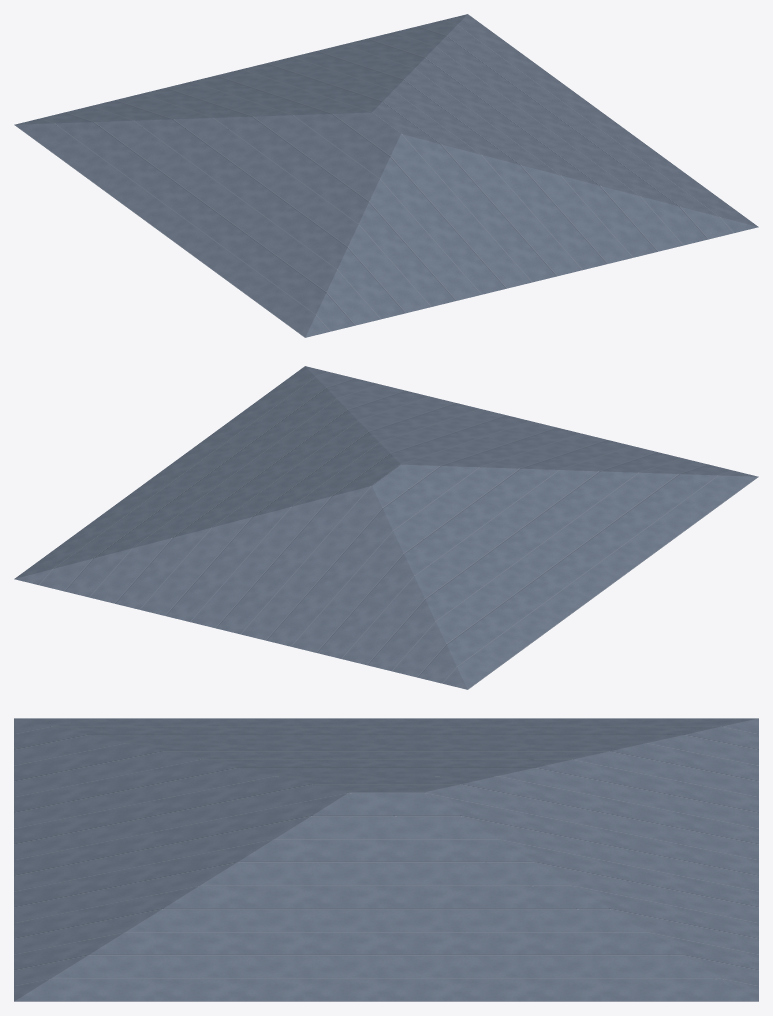
The model's file is roof_cap_a.glb.
The picture shows the model from 3 angles, top to bottom: view 1: azimuth 30°, elevation 25°; view 2: azimuth 150°, elevation 25°; view 3: azimuth 270°, elevation 25°; orthographic projection. The views are drawn at different scales.
Visible parts, largest first — view 1: roof_cap_a_zinc; view 2: roof_cap_a_zinc; view 3: roof_cap_a_zinc.
Part boxes in pixels (bbox=[...]): roof_cap_a_zinc: bbox=[14, 14, 758, 337]; roof_cap_a_zinc: bbox=[14, 366, 758, 689]; roof_cap_a_zinc: bbox=[14, 718, 758, 1001].
Size of the model in its own units: 9 by 1 by 10.
1 material, 1 textured.
